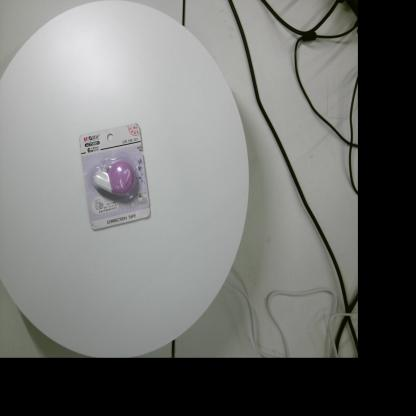Stationery: (79, 123, 151, 231)
